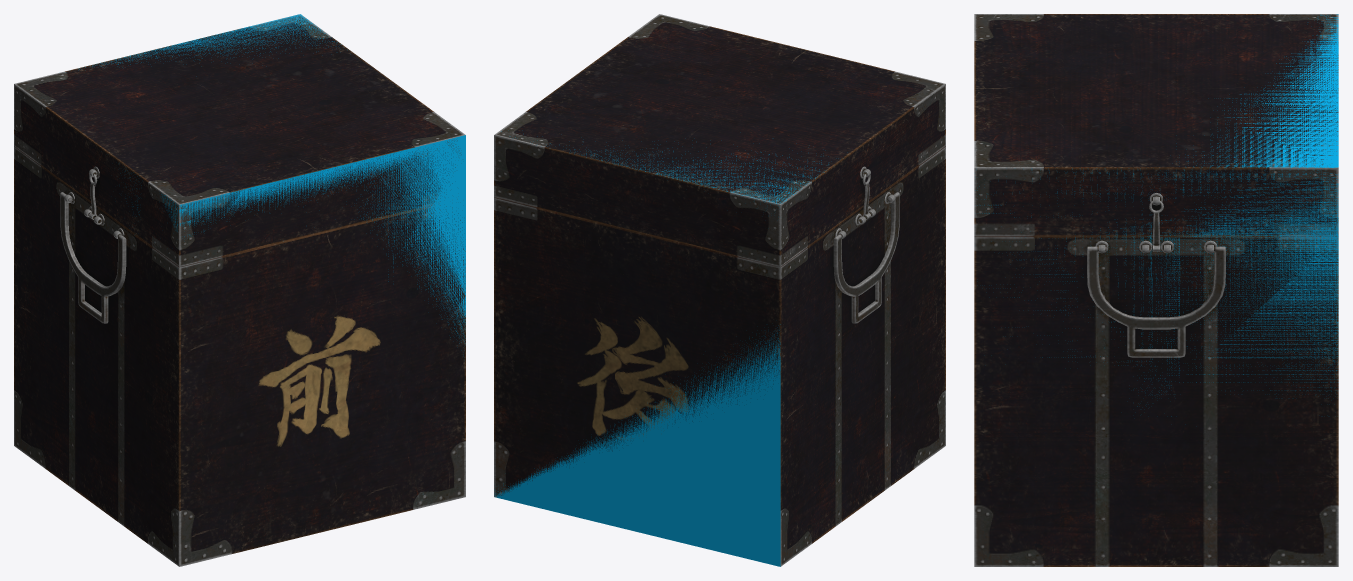
The model's file is JWC_Box_YoroiBitsu_A_01.fbx.
The picture shows the model from 3 angles, left to right: view 1: azimuth 30°, elevation 25°; view 2: azimuth 150°, elevation 25°; view 3: azimuth 270°, elevation 25°; orthographic projection. The views are drawn at different scales.
Visible parts, largest first — view 1: JWC_Box_YoroiBitsu_A_01, C_JWC_Box_YoroiBitsu_A_01; view 2: JWC_Box_YoroiBitsu_A_01, C_JWC_Box_YoroiBitsu_A_01; view 3: JWC_Box_YoroiBitsu_A_01, C_JWC_Box_YoroiBitsu_A_01.
Part boxes in pixels (left/top/right/bottom): JWC_Box_YoroiBitsu_A_01: left=14, top=14, right=465, bottom=566; C_JWC_Box_YoroiBitsu_A_01: left=78, top=14, right=465, bottom=343; JWC_Box_YoroiBitsu_A_01: left=494, top=14, right=945, bottom=566; C_JWC_Box_YoroiBitsu_A_01: left=494, top=131, right=828, bottom=566; JWC_Box_YoroiBitsu_A_01: left=974, top=14, right=1338, bottom=566; C_JWC_Box_YoroiBitsu_A_01: left=975, top=14, right=1338, bottom=416.
Bounding box in the file's own units: 0.6605 × 0.7604 × 0.6297.
